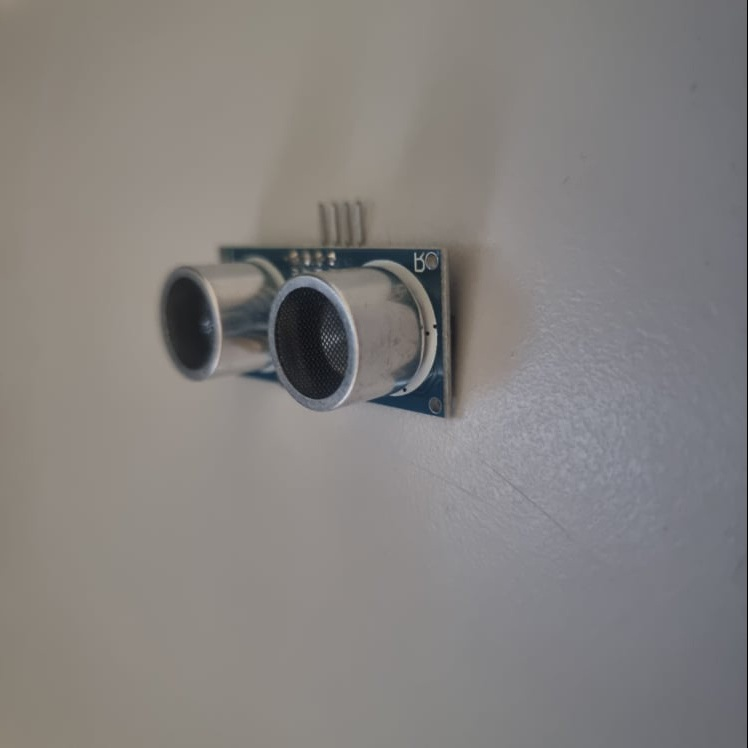SENSOR: (158, 238, 453, 421)
